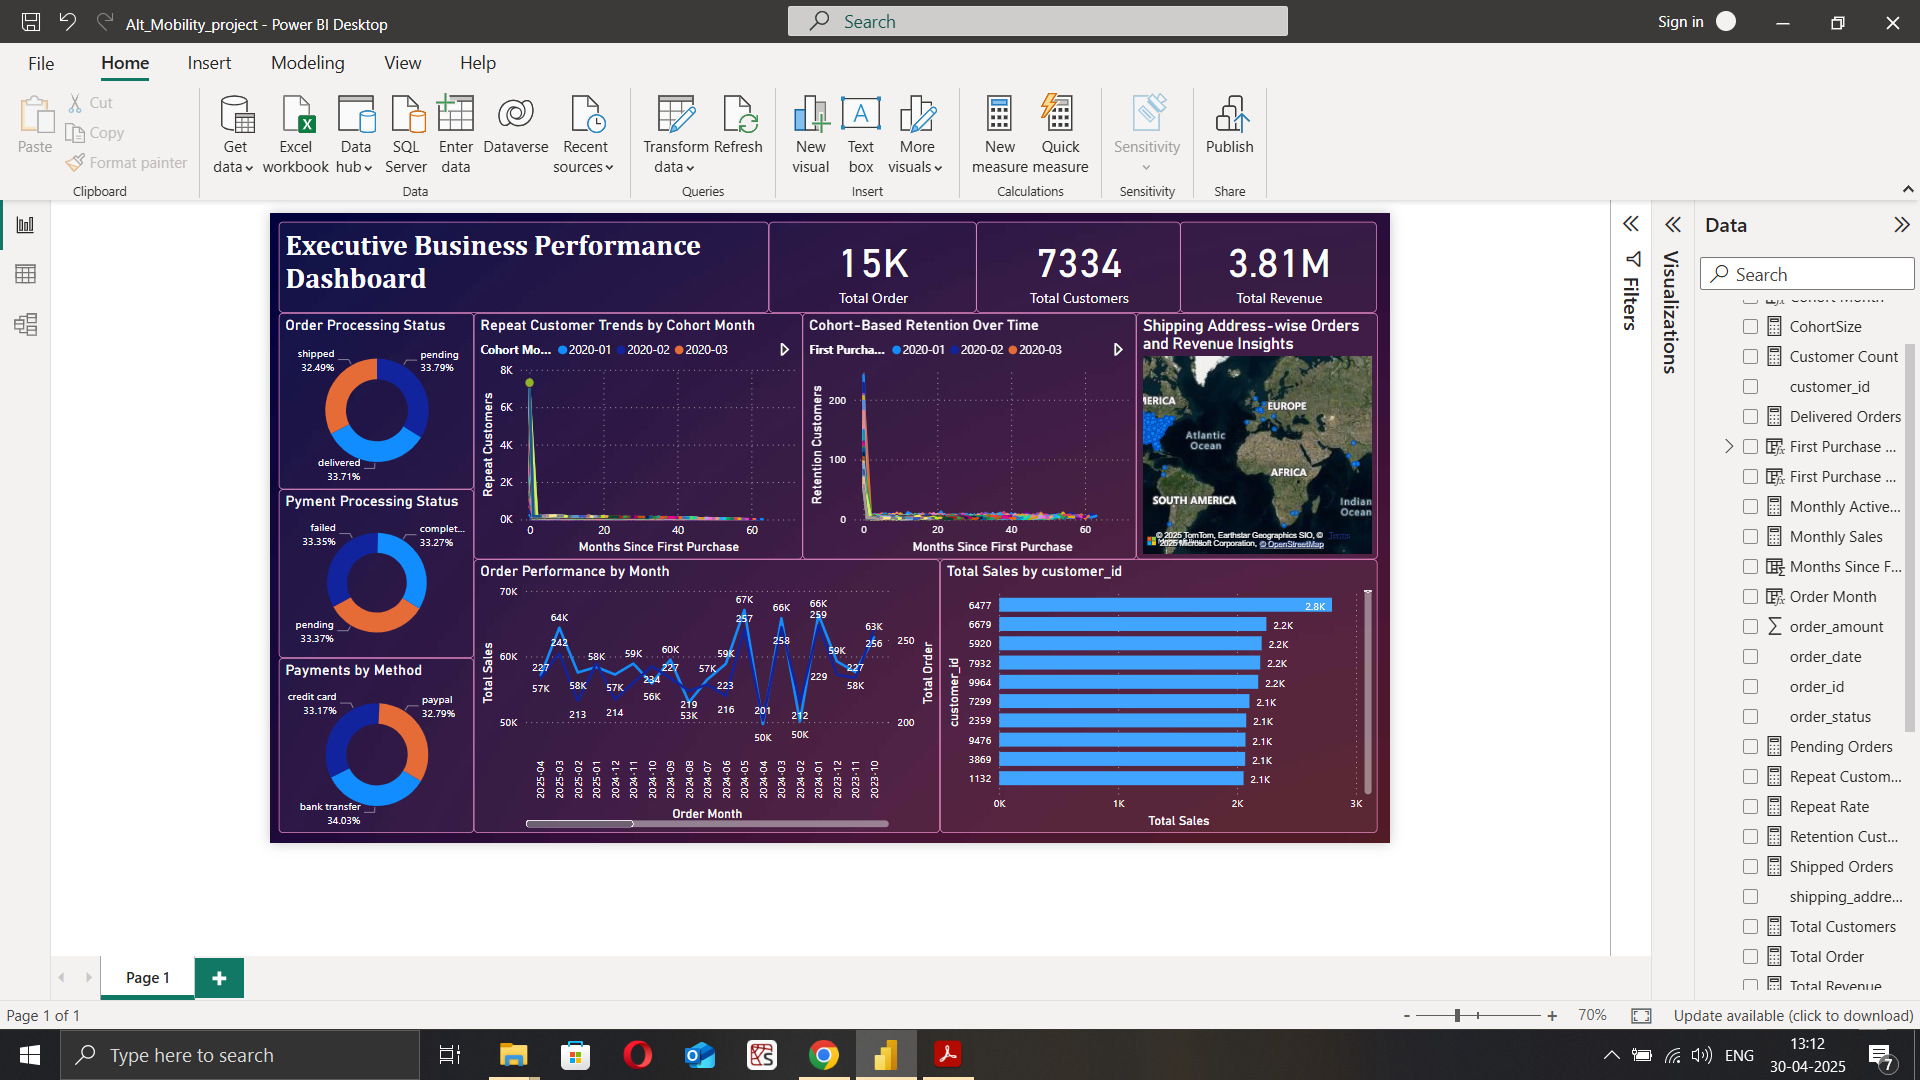

This screenshot's page, from the dashboard's own definition file:
{"tool":"powerbi","page":{"name":"Page 1","canvas":[1280,720],"ordinal":0},"visuals":[{"type":"textbox","box":[9.6,9.6,559.9,104.3],"z":0},{"type":"donutChart","title":"Order Processing Status","fields":{"Category":["alt_mobility customer_orders.order_status"],"Y":["CountNonNull(alt_mobility customer_orders.order_status)"]},"box":[10,114.3,222.9,201.4],"z":1000},{"type":"card","fields":{"Values":["alt_mobility customer_orders.Total Order"]},"box":[569.5,9.6,237.4,104.3],"z":4000},{"type":"card","fields":{"Values":["alt_mobility customer_orders.Total Revenue"]},"box":[1040.1,9.6,225,104.3],"z":5000},{"type":"card","fields":{"Values":["alt_mobility customer_orders.Total Customers"]},"box":[806.9,9.6,233.3,104.3],"z":6000},{"type":"stackedAreaChart","title":"Repeat Customer Trends by Cohort Month","fields":{"Category":["alt_mobility customer_orders.Months Since First Purchase"],"Y":["alt_mobility customer_orders.Repeat Customers"],"Series":["alt_mobility customer_orders.Cohort Month"]},"box":[232.9,114.3,375.7,281.4],"z":7000},{"type":"donutChart","title":"Pyment Processing Status","fields":{"Category":["alt_mobility payments.payment_status"],"Y":["CountNonNull(alt_mobility payments.payment_status)"]},"box":[10,315.7,222.9,192.9],"z":8001},{"type":"map","title":"Shipping Address-wise Orders and Revenue Insights","fields":{"Category":["alt_mobility customer_orders.shipping_address"],"Size":["CountNonNull(alt_mobility customer_orders.order_id)"]},"box":[990,114.3,275.7,281.4],"z":8002},{"type":"donutChart","title":"Payments by Method","fields":{"Category":["alt_mobility payments.payment_method"],"Y":["CountNonNull(alt_mobility payments.payment_method)"]},"box":[10,508.6,222.9,200],"z":8003},{"type":"lineChart","title":"Order Performance by Month","fields":{"Category":["alt_mobility customer_orders.Order Month"],"Y":["alt_mobility customer_orders.Total Sales"],"Y2":["alt_mobility customer_orders.Total Order"]},"box":[232.9,395.7,532.9,312.9],"z":8004},{"type":"clusteredBarChart","fields":{"Category":["alt_mobility customer_orders.customer_id"],"Y":["alt_mobility customer_orders.Total Sales"]},"box":[765.7,395.7,500,312.9],"z":8005},{"type":"lineChart","title":"Cohort-Based Retention Over Time","fields":{"Category":["alt_mobility customer_orders.Months Since First Purchase"],"Series":["alt_mobility customer_orders.First Purchase Month"],"Y":["alt_mobility customer_orders.Retention Customers"]},"box":[608.6,114.3,381.4,281.4],"z":8006}]}

Visuals, with their boxes on the page's 1280x720 design canvas (x1, y1, x2, y2). These are canvas units, not pixel positions in the 1920x1080 screenshot, which may show the page scaled, cropped or inside an application window:
textbox: <box>10,10,570,114</box>
"Order Processing Status" donutChart: <box>10,114,233,316</box>
card - alt_mobility customer_orders.Total Order: <box>570,10,807,114</box>
card - alt_mobility customer_orders.Total Revenue: <box>1040,10,1265,114</box>
card - alt_mobility customer_orders.Total Customers: <box>807,10,1040,114</box>
"Repeat Customer Trends by Cohort Month" stackedAreaChart: <box>233,114,609,396</box>
"Pyment Processing Status" donutChart: <box>10,316,233,509</box>
"Shipping Address-wise Orders and Revenue Insights" map: <box>990,114,1266,396</box>
"Payments by Method" donutChart: <box>10,509,233,709</box>
"Order Performance by Month" lineChart: <box>233,396,766,709</box>
clusteredBarChart - alt_mobility customer_orders.customer_id x alt_mobility customer_orders.Total Sales: <box>766,396,1266,709</box>
"Cohort-Based Retention Over Time" lineChart: <box>609,114,990,396</box>
